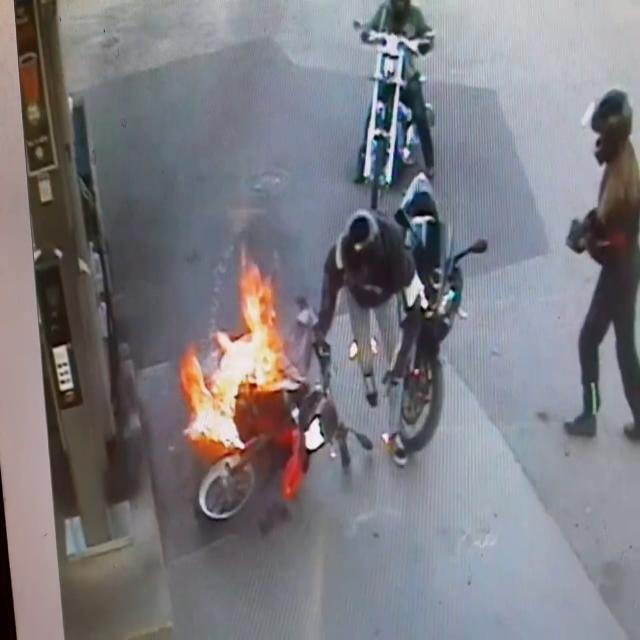Fire: (172, 244, 296, 453)
Smoke: (66, 1, 316, 277)
